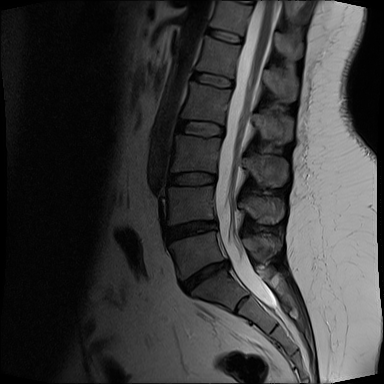Lumbar Disc Bulge (LDB): (173, 250, 247, 301), (158, 216, 227, 249)
Normal IVD: (172, 113, 227, 142), (161, 164, 217, 191), (188, 67, 238, 92), (199, 22, 246, 46)
Spinal Stenosis (SS): (213, 248, 238, 283), (200, 210, 226, 240)
